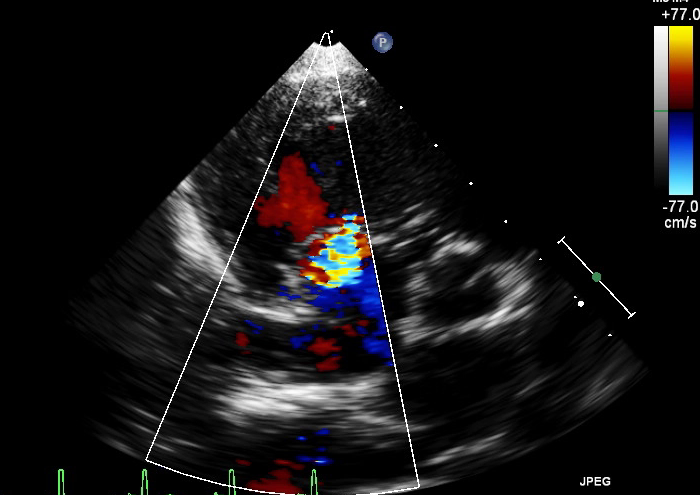TR: (292, 214, 365, 288)
